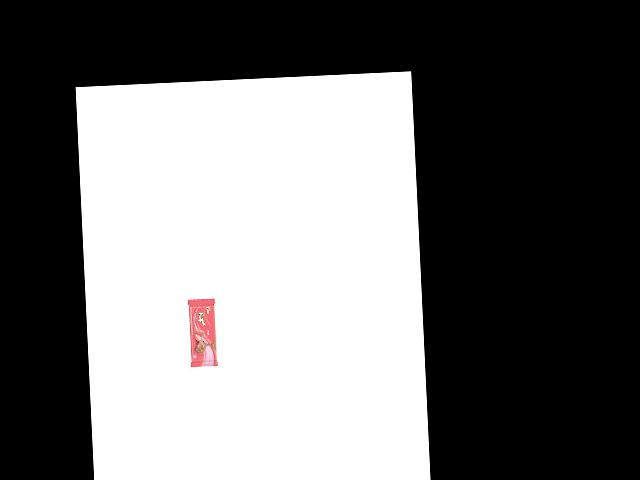chocolate: (182, 293, 217, 367)
